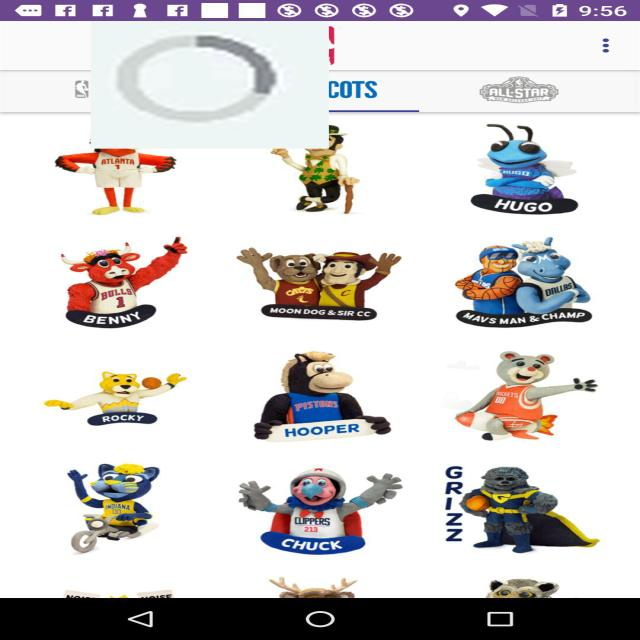misdirection: (91, 21, 329, 149)
